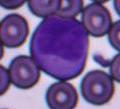M: (30, 15, 88, 79)
